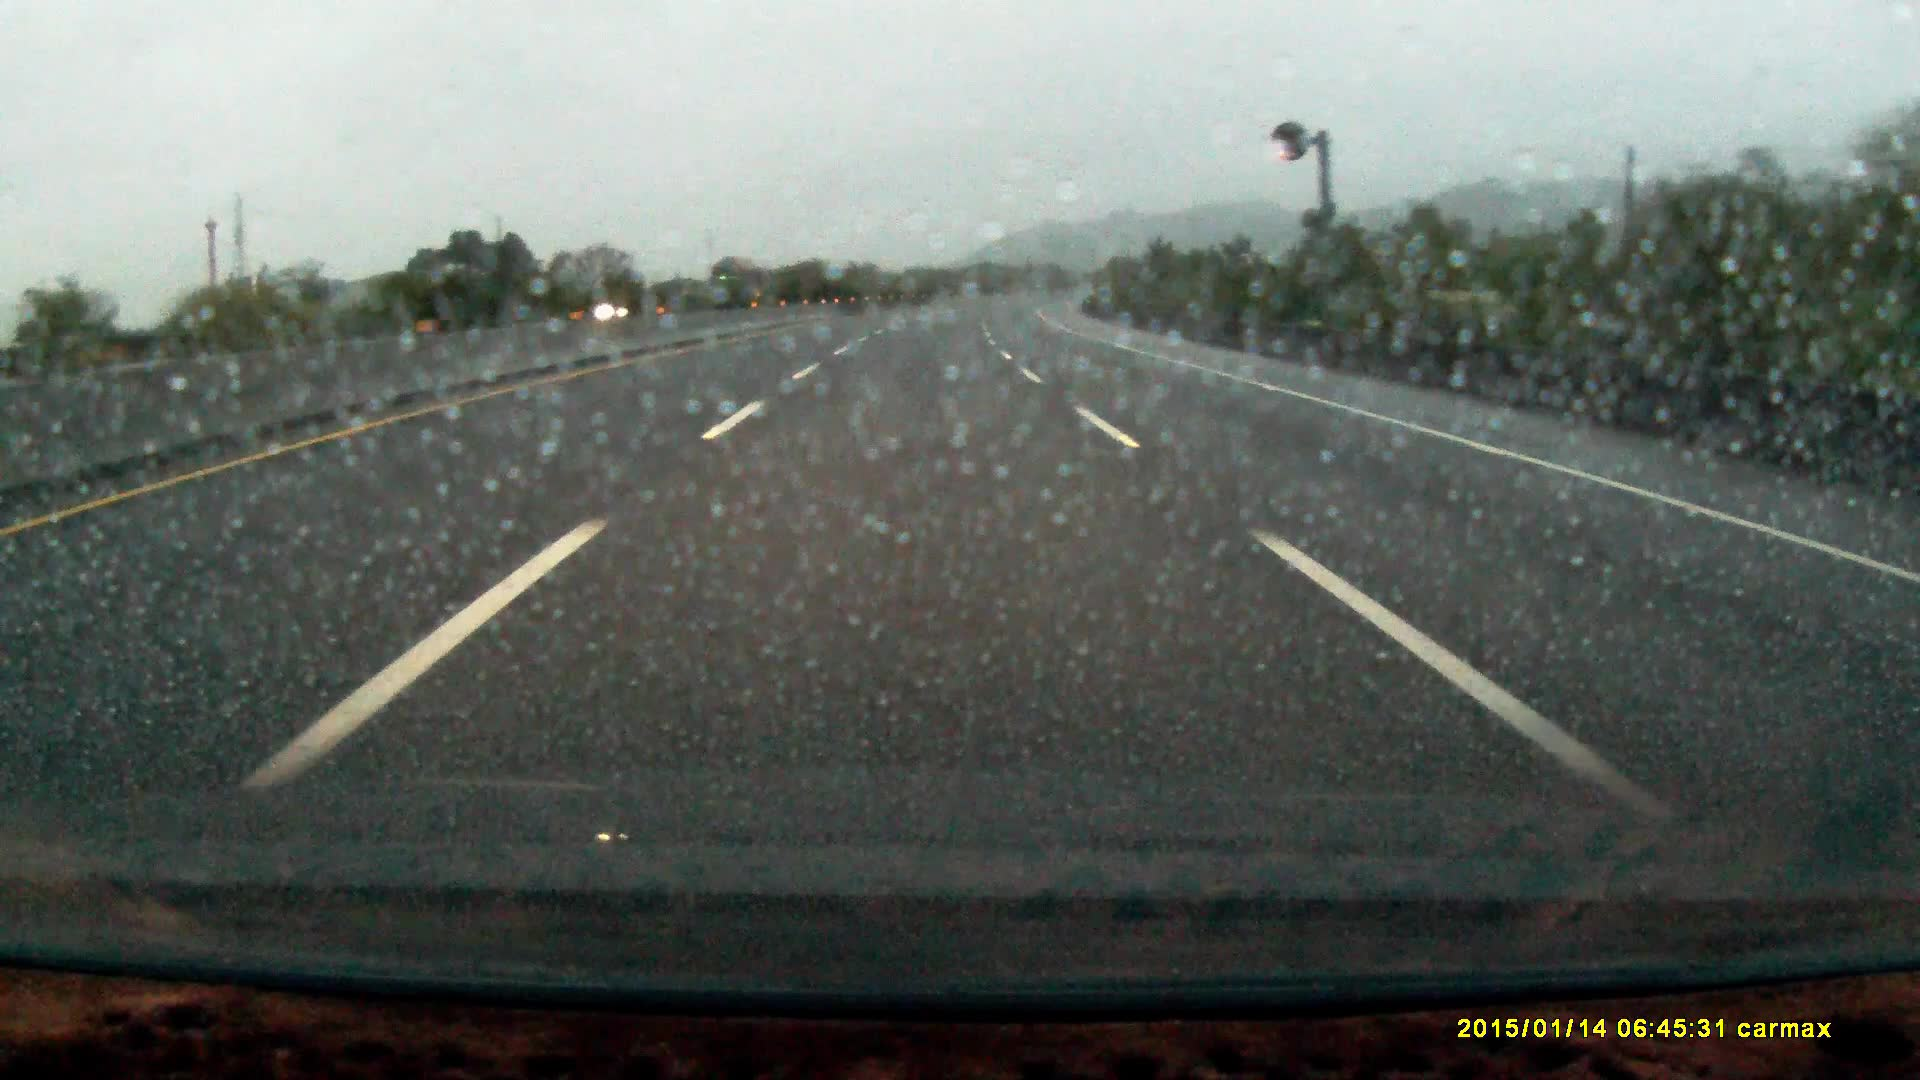vehicle: (702, 257, 753, 305), (593, 287, 651, 316)
